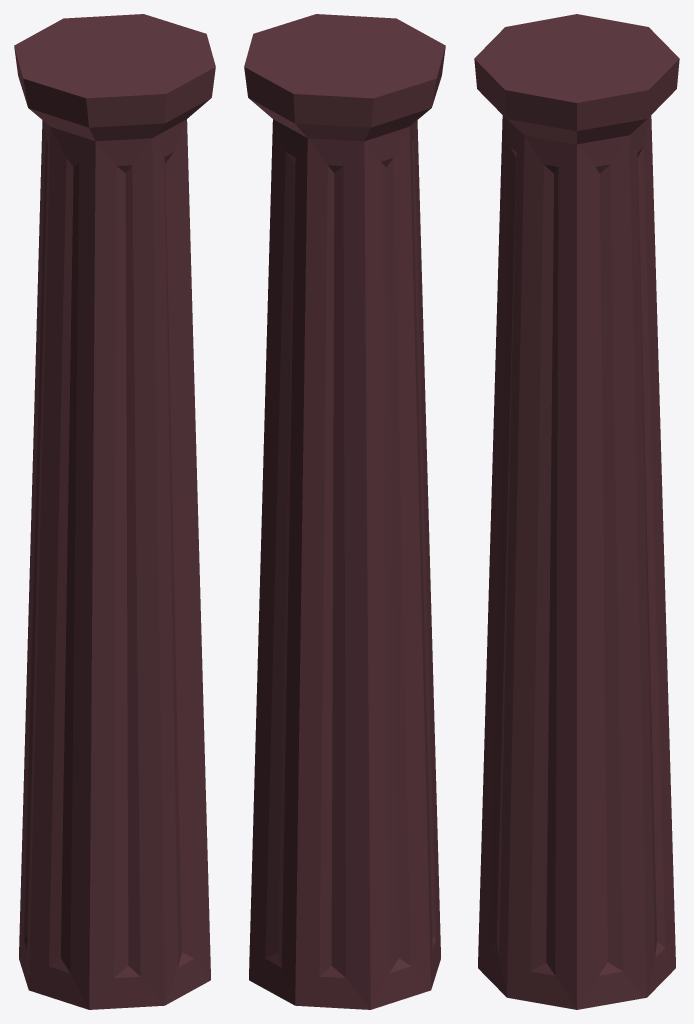
The model's file is empire-pillar-doric-big-empire.glb.
3 renders of one model, left to right at view 1: azimuth 30°, elevation 25°; view 2: azimuth 150°, elevation 25°; view 3: azimuth 270°, elevation 25°, orthographic.
Visible parts, largest first — view 1: SM_Pillar_Doric_Big_Empire; view 2: SM_Pillar_Doric_Big_Empire; view 3: SM_Pillar_Doric_Big_Empire.
Part boxes in pixels (left/top/right/bottom): SM_Pillar_Doric_Big_Empire: left=14, top=14, right=215, bottom=1009; SM_Pillar_Doric_Big_Empire: left=244, top=14, right=445, bottom=1009; SM_Pillar_Doric_Big_Empire: left=474, top=14, right=679, bottom=1009.
Size of the model in its own units: 2.11 by 10.02 by 2.05.
